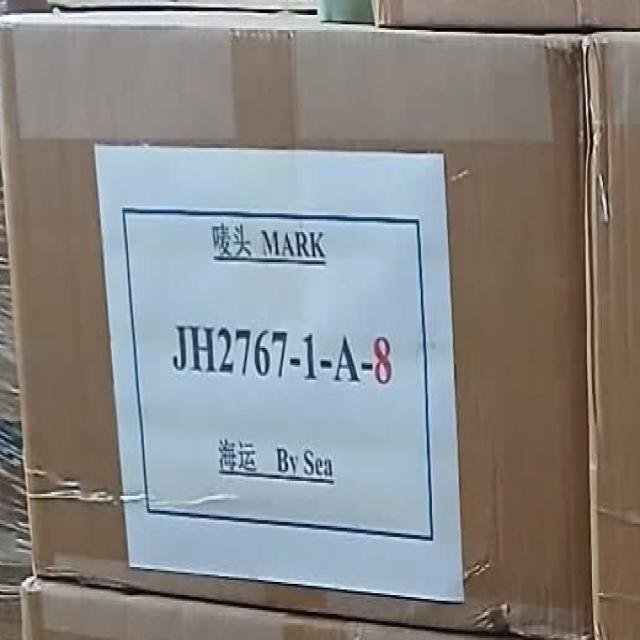carton_box: (0, 0, 606, 640)
export_mark_label: (98, 143, 460, 558)
package_damage: (452, 551, 543, 640)
